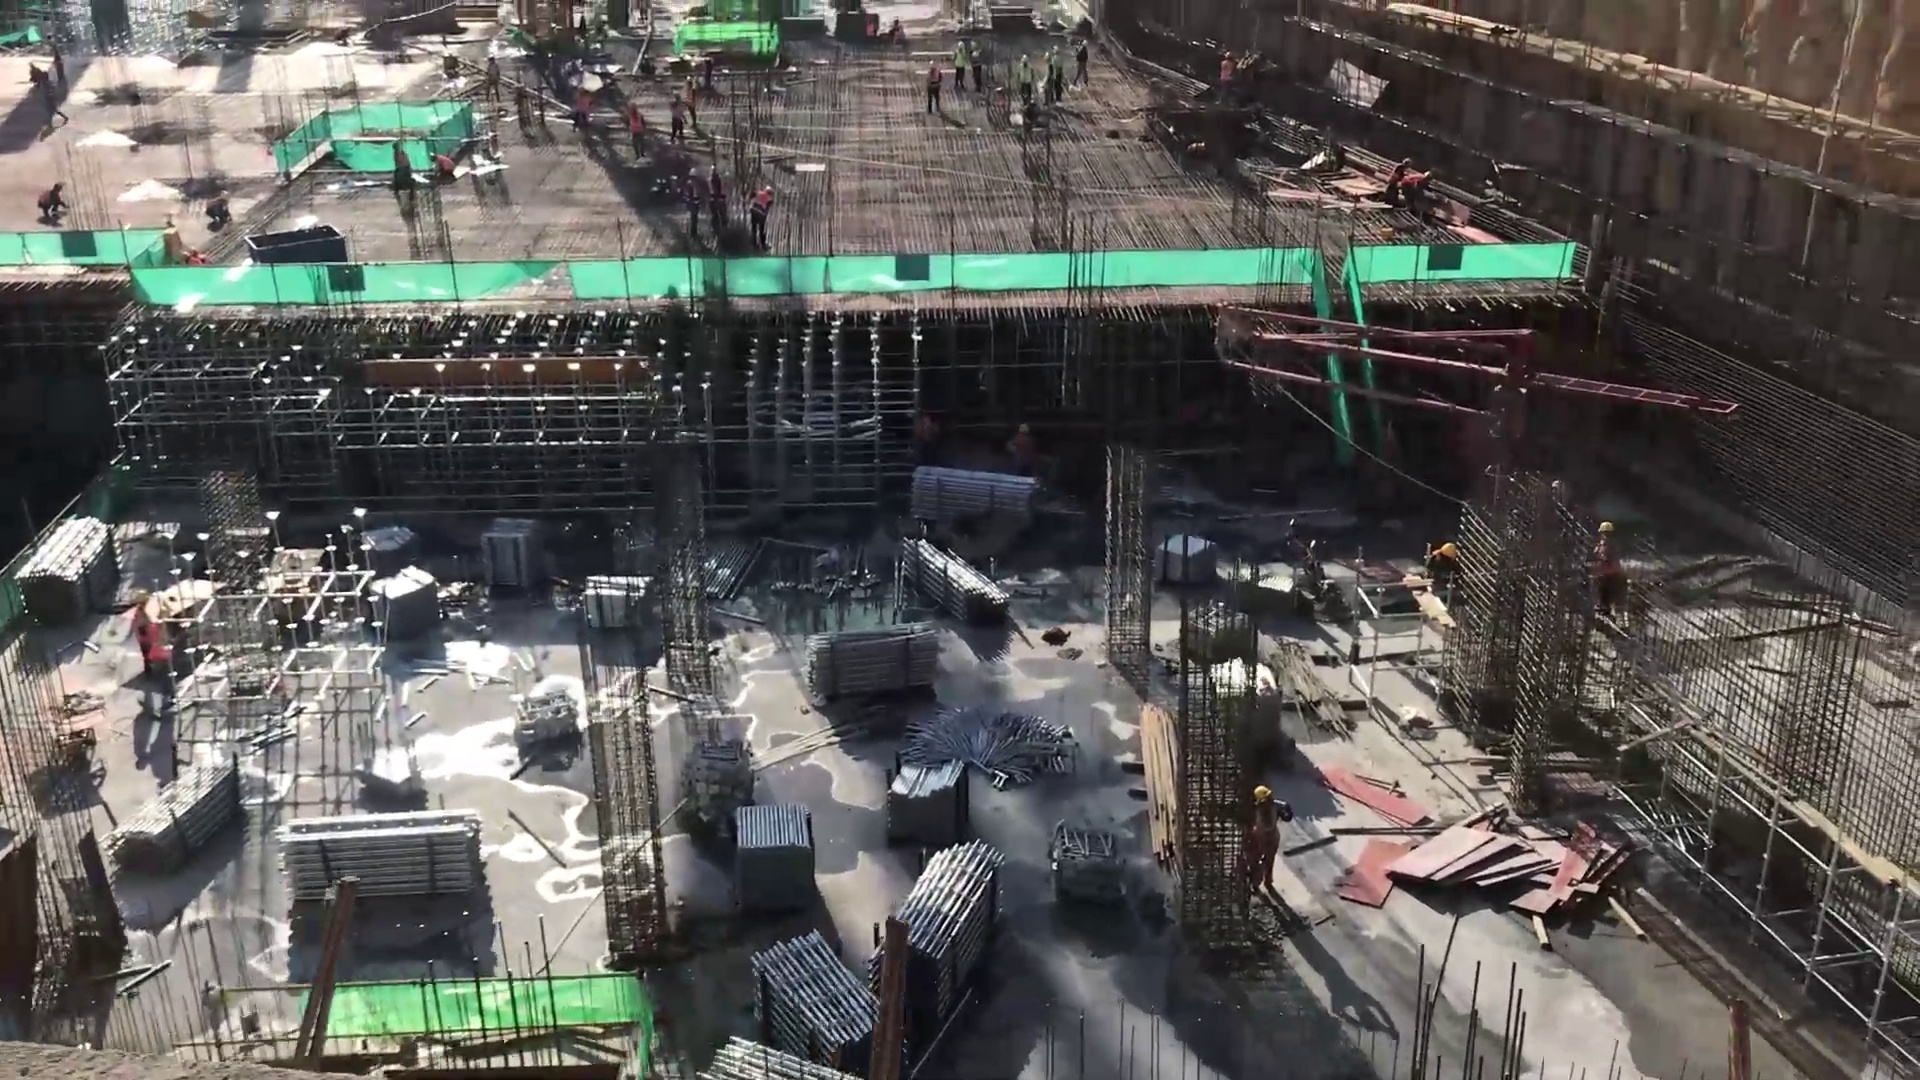board: (1394, 826, 1544, 906)
helmet: (1436, 541, 1454, 560), (1253, 785, 1271, 801)
person: (1246, 783, 1294, 900), (1589, 521, 1620, 621), (150, 607, 183, 697), (128, 584, 152, 690), (743, 185, 777, 253), (1427, 540, 1460, 605), (37, 74, 69, 131), (620, 101, 649, 161), (1402, 163, 1433, 217), (706, 168, 727, 239), (389, 140, 413, 196), (684, 167, 701, 239), (1385, 152, 1407, 206), (39, 180, 69, 220), (570, 85, 592, 136), (665, 89, 684, 147), (681, 77, 700, 130), (47, 40, 70, 86), (924, 58, 942, 117), (1016, 55, 1034, 110), (1217, 51, 1233, 114), (1074, 39, 1092, 92), (426, 151, 456, 182), (1046, 45, 1063, 97), (206, 191, 235, 222), (970, 40, 985, 100), (484, 51, 500, 106), (951, 41, 967, 95), (1041, 54, 1053, 107)
scaffold: (888, 843, 1002, 1018), (283, 816, 490, 893), (761, 927, 882, 1047), (121, 756, 242, 876), (812, 620, 955, 714), (912, 541, 1012, 633), (917, 466, 1044, 530), (690, 1035, 870, 1080), (27, 520, 112, 611), (892, 758, 967, 835), (747, 804, 809, 880), (482, 519, 543, 592), (379, 566, 438, 637)
vest: (751, 189, 770, 222)
wood: (1138, 708, 1186, 854)
